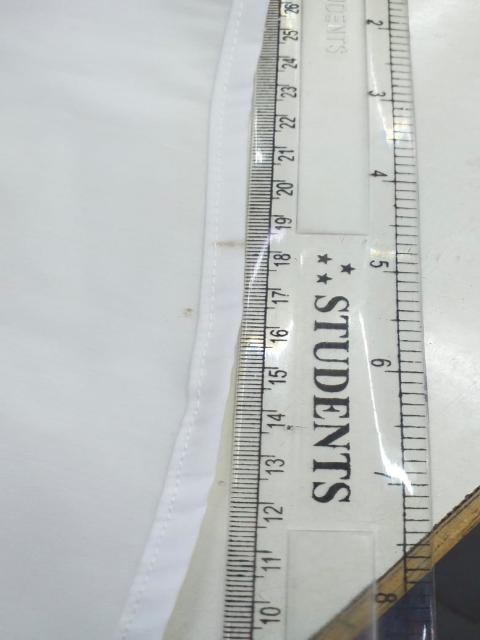Dirty_mark: (216, 236, 246, 252), (173, 303, 196, 320)
